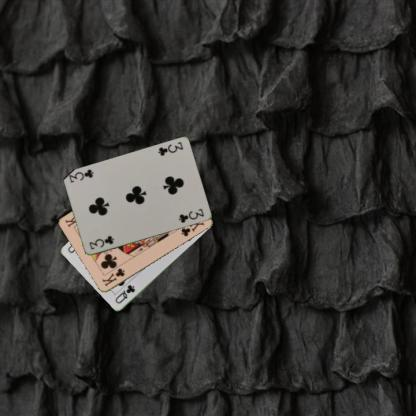3c: (87, 233, 115, 251), (156, 139, 184, 157)
Kc: (99, 266, 126, 288)
Qc: (113, 282, 136, 305)
